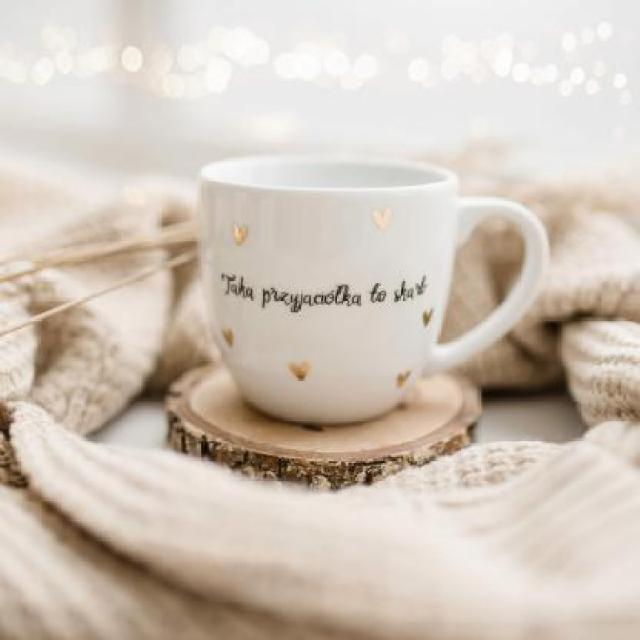cup: (185, 146, 555, 428)
